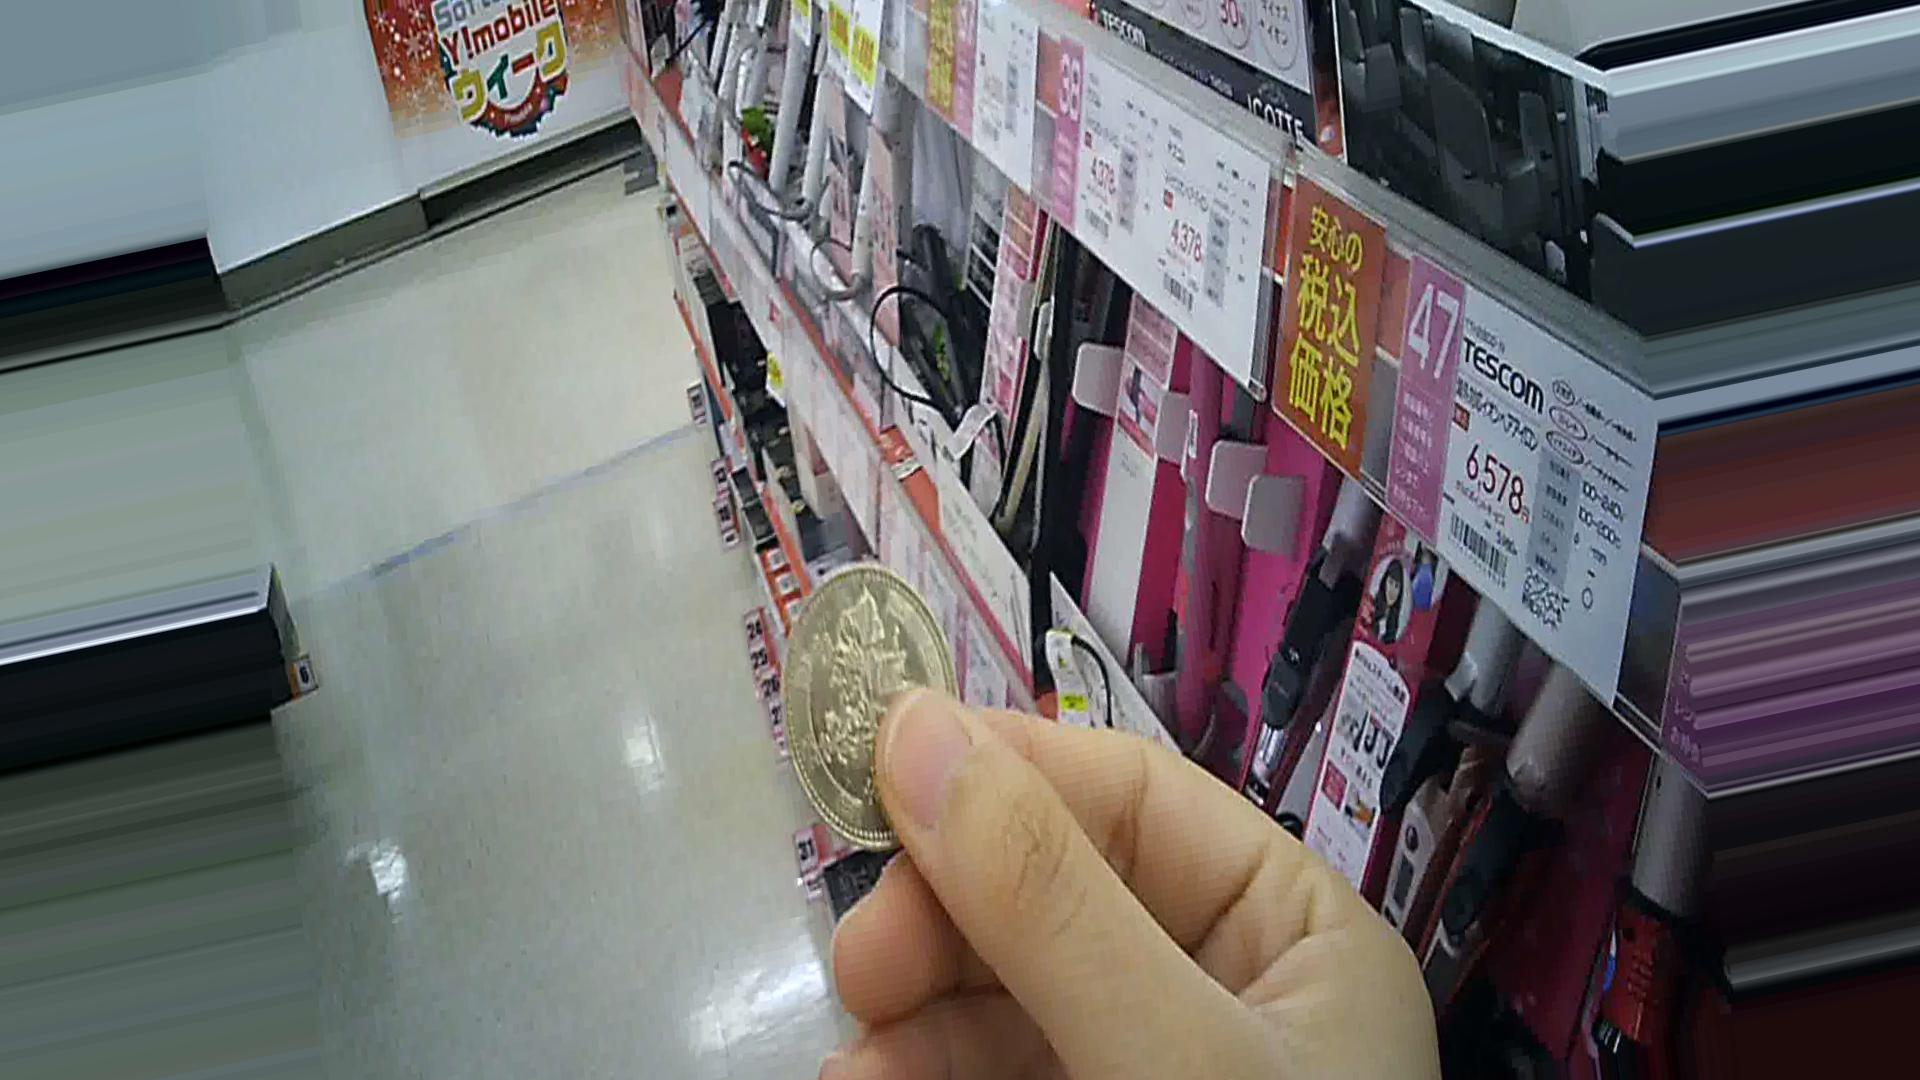500 Yen: (773, 567, 973, 857)
